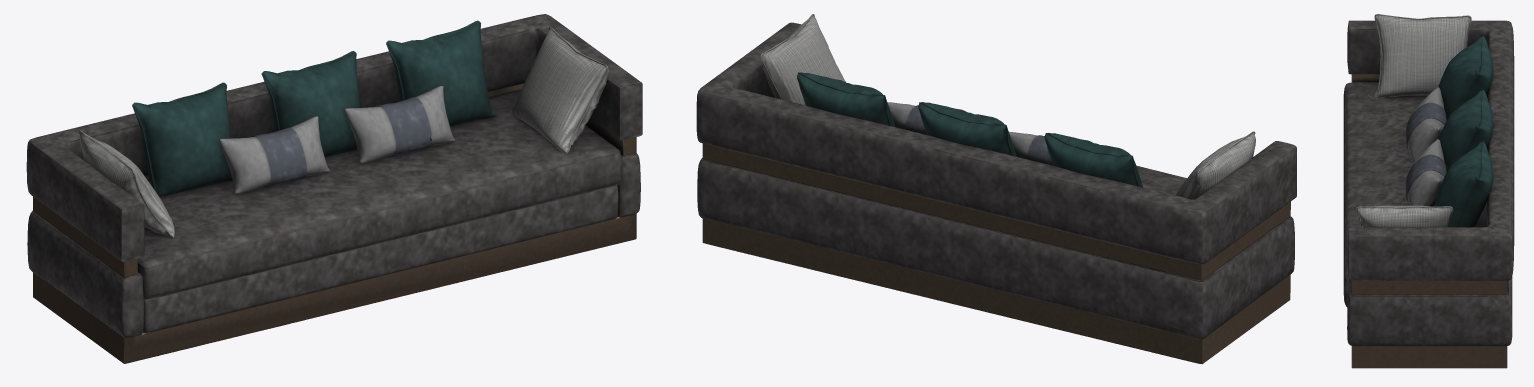
File: raw_model.obj
The picture shows the model from 3 angles, left to right: view 1: azimuth 30°, elevation 25°; view 2: azimuth 150°, elevation 25°; view 3: azimuth 270°, elevation 25°; orthographic projection. The views are drawn at different scales.
Visible parts, largest first — view 1: solid_006, solid_004, solid_005, solid_001, solid_002, solid_003; view 2: solid_006, solid_005, solid_004, solid_001, solid_002, solid_003; view 3: solid_006, solid_004, solid_001, solid_005, solid_002, solid_003.
Part boxes in pixels (x1,y1,x2,y2): solid_006: [26, 14, 642, 337]; solid_004: [132, 20, 496, 196]; solid_005: [33, 83, 636, 363]; solid_001: [79, 27, 608, 238]; solid_002: [219, 85, 454, 194]; solid_003: [251, 97, 431, 187]; solid_006: [696, 22, 1296, 339]; solid_005: [702, 143, 1290, 364]; solid_004: [797, 72, 1142, 187]; solid_001: [760, 14, 1255, 199]; solid_002: [887, 102, 1037, 159]; solid_003: [905, 105, 1053, 165]; solid_006: [1343, 20, 1514, 346]; solid_004: [1435, 36, 1493, 227]; solid_001: [1356, 14, 1471, 227]; solid_005: [1351, 74, 1507, 368]; solid_002: [1406, 87, 1444, 206]; solid_003: [1405, 102, 1446, 201].
Bounding box in the file's own units: 2.99 × 0.9824 × 1.04.
Materials: 1 (1 with a texture image).
